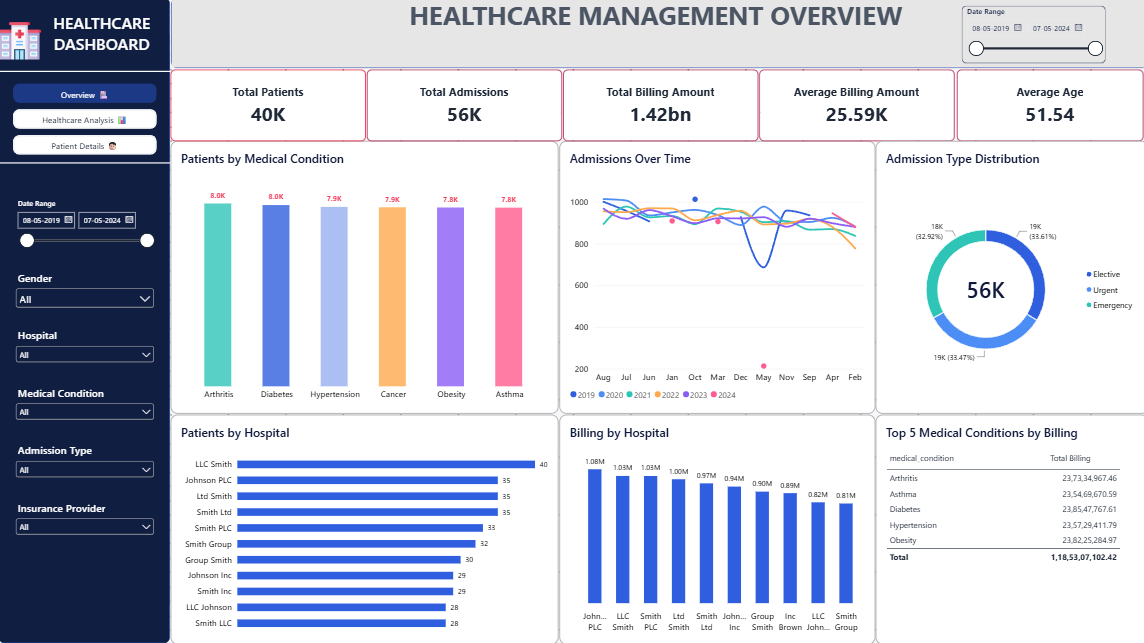

This screenshot's page, from the dashboard's own definition file:
{"tool":"powerbi","page":{"name":"Overview 🏥","canvas":[1920,1080],"ordinal":0},"visuals":[{"type":"shape","box":[0,0,288,1080],"z":0,"group":"g1"},{"type":"group","id":"g1","title":"Group 1","box":[0,0,1920,1080],"z":0,"group":"g2"},{"type":"group","id":"g2","title":"Group 2","box":[0,0,1920,1080],"z":0},{"type":"shape","box":[288,0,1632,120],"z":1000,"group":"g1"},{"type":"textbox","box":[288,0,1632,120],"z":1000,"group":"g2"},{"type":"clusteredColumnChart","title":"Patients by Medical Condition","fields":{"Category":["patient_admission_detail.medical_condition"],"Y":["Measure.count"]},"box":[288,240,648,456],"z":1000},{"type":"textbox","box":[0,24,288,96],"z":2000,"group":"g1"},{"type":"shape","box":[0,112,288,23],"z":2000,"group":"g2"},{"type":"lineChart","title":"Admissions Over Time","fields":{"Category":["patient_admission_detail.Admission Month"],"Series":["patient_admission_detail.Admission Year"],"Y":["Measure.Total Admissions"]},"box":[936,240,528,456],"z":2000},{"type":"image","box":[0,24,72,96],"z":3000,"group":"g1"},{"type":"cardVisual","fields":{"Data":["Measure.Total Patients"]},"box":[288,120,326,120],"z":3000},{"type":"slicer","fields":{"Values":["patient_admission_detail.admission_date"]},"box":[24,336,240,96],"z":3000,"group":"g2"},{"type":"cardVisual","fields":{"Data":["Measure.Total Admissions"]},"box":[615,120,326,120],"z":4000},{"type":"pageNavigator","box":[24,144,240,120],"z":4000,"group":"g1"},{"type":"slicer","fields":{"Values":["patient_admission_detail.hospital"]},"box":[24,552,240,72],"z":4000,"group":"g2"},{"type":"slicer","fields":{"Values":["patient_admission_detail.admission_date"]},"box":[1608,14,240,96],"z":5000,"group":"g2"},{"type":"cardVisual","fields":{"Data":["Measure.Total Billing"]},"box":[943,120,326,120],"z":5000},{"type":"shape","box":[0,264,288,24],"z":5000,"group":"g1"},{"type":"cardVisual","fields":{"Data":["Measure.Average Billing"]},"box":[1271,120,326,120],"z":6000},{"type":"slicer","fields":{"Values":["patient_admission_detail.gender"]},"box":[24,456,240,72],"z":6000,"group":"g1"},{"type":"slicer","fields":{"Values":["patient_admission_detail.medical_condition"]},"box":[24,648,240,72],"z":6000,"group":"g2"},{"type":"cardVisual","fields":{"Data":["Measure.Average Age"]},"box":[1600,120,312,120],"z":7000},{"type":"slicer","fields":{"Values":["patient_admission_detail.admission_type"]},"box":[24,744,240,72],"z":7000,"group":"g2"},{"type":"donutChart","title":"Admission Type Distribution","fields":{"Category":["patient_admission_detail.admission_type"],"Y":["Measure.Total Admissions"]},"box":[1464,240,456,456],"z":8000},{"type":"slicer","fields":{"Values":["patient_admission_detail.insurance_provider"]},"box":[24,840,240,72],"z":8000,"group":"g2"},{"type":"clusteredBarChart","title":"Patients by Hospital","fields":{"Category":["patient_admission_detail.hospital"],"Y":["Measure.Total Patients"]},"box":[288,696,648,384],"z":9000},{"type":"clusteredColumnChart","title":"Billing by Hospital","fields":{"Category":["patient_admission_detail.hospital"],"Y":["Measure.Total Billing"]},"box":[936,696,528,384],"z":10000},{"type":"tableEx","title":"Top 5 Medical Conditions by Billing","fields":{"Values":["patient_admission_detail.medical_condition","Measure.Total Billing"]},"box":[1464,696,456,384],"z":11000}]}

Visuals, with their boxes on the page's 1920x1080 design canvas (x1, y1, x2, y2). These are canvas units, not pixel positions in the 1144x643 screenshot, which may show the page scaled, cropped or inside an application window:
shape: x1=0 y1=0 x2=288 y2=1080
"Group 1" group: x1=0 y1=0 x2=1920 y2=1080
"Group 2" group: x1=0 y1=0 x2=1920 y2=1080
shape: x1=288 y1=0 x2=1920 y2=120
textbox: x1=288 y1=0 x2=1920 y2=120
"Patients by Medical Condition" clusteredColumnChart: x1=288 y1=240 x2=936 y2=696
textbox: x1=0 y1=24 x2=288 y2=120
shape: x1=0 y1=112 x2=288 y2=135
"Admissions Over Time" lineChart: x1=936 y1=240 x2=1464 y2=696
image: x1=0 y1=24 x2=72 y2=120
cardVisual - Measure.Total Patients: x1=288 y1=120 x2=614 y2=240
slicer - patient_admission_detail.admission_date: x1=24 y1=336 x2=264 y2=432
cardVisual - Measure.Total Admissions: x1=615 y1=120 x2=941 y2=240
pageNavigator: x1=24 y1=144 x2=264 y2=264
slicer - patient_admission_detail.hospital: x1=24 y1=552 x2=264 y2=624
slicer - patient_admission_detail.admission_date: x1=1608 y1=14 x2=1848 y2=110
cardVisual - Measure.Total Billing: x1=943 y1=120 x2=1269 y2=240
shape: x1=0 y1=264 x2=288 y2=288
cardVisual - Measure.Average Billing: x1=1271 y1=120 x2=1597 y2=240
slicer - patient_admission_detail.gender: x1=24 y1=456 x2=264 y2=528
slicer - patient_admission_detail.medical_condition: x1=24 y1=648 x2=264 y2=720
cardVisual - Measure.Average Age: x1=1600 y1=120 x2=1912 y2=240
slicer - patient_admission_detail.admission_type: x1=24 y1=744 x2=264 y2=816
"Admission Type Distribution" donutChart: x1=1464 y1=240 x2=1920 y2=696
slicer - patient_admission_detail.insurance_provider: x1=24 y1=840 x2=264 y2=912
"Patients by Hospital" clusteredBarChart: x1=288 y1=696 x2=936 y2=1080
"Billing by Hospital" clusteredColumnChart: x1=936 y1=696 x2=1464 y2=1080
"Top 5 Medical Conditions by Billing" tableEx: x1=1464 y1=696 x2=1920 y2=1080
